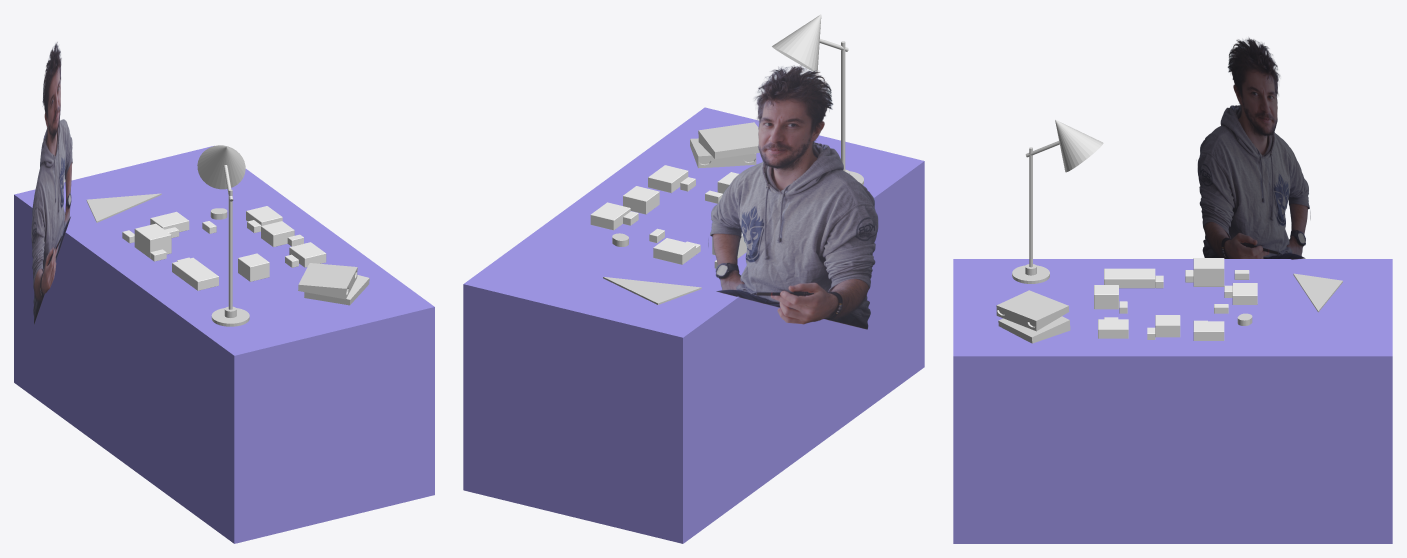
File: pageLayout-08.glb
The picture shows the model from 3 angles, left to right: view 1: azimuth 30°, elevation 25°; view 2: azimuth 150°, elevation 25°; view 3: azimuth 270°, elevation 25°; orthographic projection. The views are drawn at different scales.
Visible parts, largest first — view 1: deskPlane, pictureFrame, Cylinder.014, Cube.019, Plane.007, neighboar_002, neighboar_005, neighboar_003, neighboar_012, neighboar_010, Cube.018, neighboar_001 (+1 smaller); view 2: deskPlane, pictureFrame, Cylinder.014, Cube.019, Plane.007, Cube.018, neighboar_001, neighboar_012, neighboar_010, neighboar_015; view 3: deskPlane, pictureFrame, Cylinder.014, Cube.019, neighboar_002, Cube.018, Plane.007, neighboar_005, neighboar_015, neighboar_003, neighboar_010, neighboar_012 (+1 smaller).
Boxes of the visible parts, bbox=[...] form: deskPlane: bbox=[14, 145, 434, 543]; pictureFrame: bbox=[31, 42, 72, 324]; Cylinder.014: bbox=[197, 145, 249, 326]; Cube.019: bbox=[298, 263, 357, 299]; Plane.007: bbox=[86, 193, 161, 222]; neighboar_002: bbox=[172, 257, 218, 290]; neighboar_005: bbox=[134, 223, 171, 258]; neighboar_003: bbox=[238, 253, 269, 281]; neighboar_012: bbox=[261, 221, 294, 246]; neighboar_010: bbox=[289, 242, 326, 267]; Cube.018: bbox=[304, 275, 369, 305]; neighboar_001: bbox=[150, 211, 189, 232]; deskPlane: bbox=[463, 107, 924, 543]; pictureFrame: bbox=[708, 65, 878, 329]; Cylinder.014: bbox=[772, 14, 863, 184]; Cube.019: bbox=[698, 122, 759, 158]; Plane.007: bbox=[603, 277, 701, 304]; Cube.018: bbox=[690, 138, 756, 168]; neighboar_001: bbox=[653, 238, 695, 264]; neighboar_012: bbox=[623, 186, 659, 214]; neighboar_010: bbox=[648, 165, 688, 192]; neighboar_015: bbox=[590, 202, 630, 230]; deskPlane: bbox=[953, 259, 1392, 543]; pictureFrame: bbox=[1197, 37, 1310, 259]; Cylinder.014: bbox=[1012, 119, 1103, 283]; Cube.019: bbox=[996, 290, 1069, 331]; neighboar_002: bbox=[1104, 268, 1155, 288]; Cube.018: bbox=[998, 316, 1070, 343]; Plane.007: bbox=[1293, 273, 1342, 312]; neighboar_005: bbox=[1193, 258, 1224, 286]; neighboar_015: bbox=[1193, 321, 1224, 340]; neighboar_003: bbox=[1094, 285, 1118, 309]; neighboar_010: bbox=[1098, 319, 1128, 338]; neighboar_012: bbox=[1155, 315, 1180, 337].
Bounding box in the file's own units: 157 × 210 × 212.
Materials: 3 (1 with a texture image).
